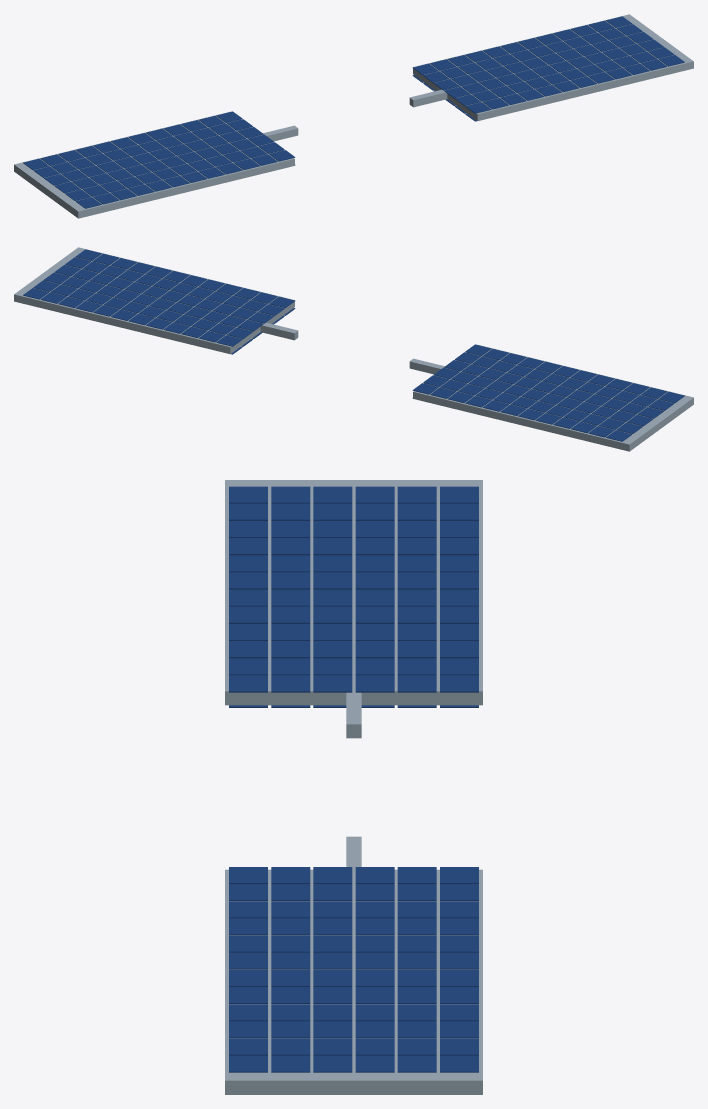
Rendered from Satellite Kit wings 1.glb.
The picture shows the model from 3 angles, top to bottom: view 1: azimuth 30°, elevation 25°; view 2: azimuth 150°, elevation 25°; view 3: azimuth 270°, elevation 25°; orthographic projection. The views are drawn at different scales.
Parts seen in each view (by area): view 1: WingFrame (×2), WingHinge (×2); view 2: WingFrame (×2), WingHinge (×2); view 3: WingFrame (×2).
Part boxes in pixels (x1,y1,x2,y2): WingFrame (×2): (14,14,693,218); WingHinge (×2): (256,88,451,141); WingFrame (×2): (14,247,693,451); WingHinge (×2): (256,321,451,374); WingFrame (×2): (225,480,482,1094).
Size of the model in its own units: 0.182 by 0.00235 by 0.033.
